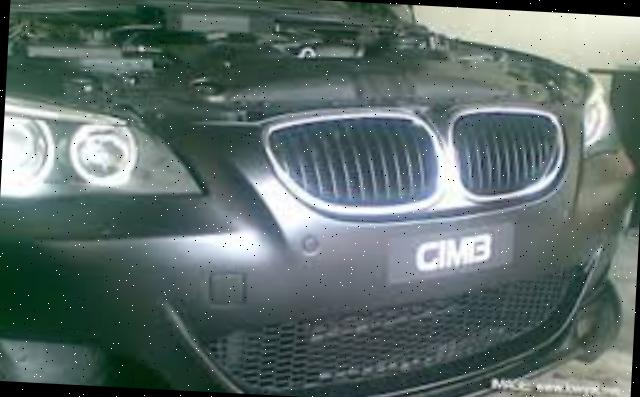License_Plate: (376, 216, 518, 292)
